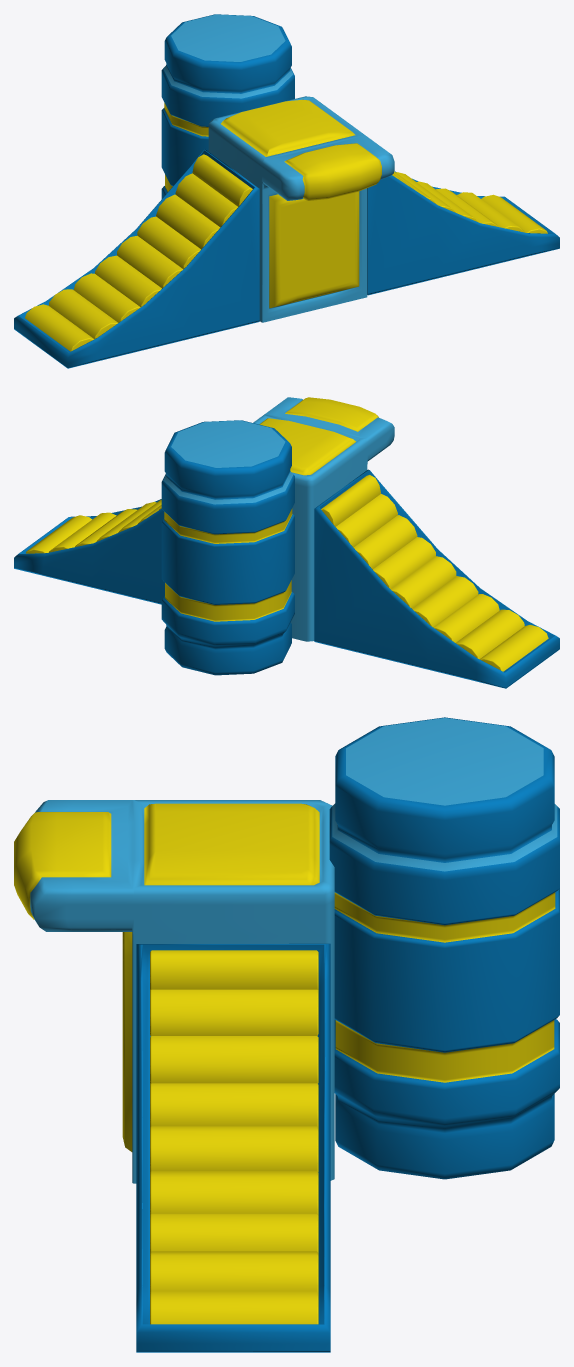
The model's file is blueBase.fbx.
3 views of the same model, one above another, from view 1: azimuth 30°, elevation 25°; view 2: azimuth 150°, elevation 25°; view 3: azimuth 270°, elevation 25° (orthographic). The views are drawn at different scales.
Visible parts, largest first — view 1: ramp1, mainPlatform, ramp2, tallPlatform; view 2: tallPlatform, ramp1, mainPlatform, ramp2; view 3: tallPlatform, ramp2, mainPlatform.
Part boxes in pixels (box(x1,y1,x2,y2)): ramp1: box(14, 149, 259, 368); mainPlatform: box(208, 96, 394, 322); ramp2: box(367, 171, 559, 295); tallPlatform: box(161, 14, 294, 198); tallPlatform: box(161, 420, 294, 675); ramp1: box(314, 469, 559, 688); mainPlatform: box(253, 397, 394, 641); ramp2: box(14, 499, 164, 604); tallPlatform: box(329, 717, 559, 1179); ramp2: box(136, 943, 330, 1352); mainPlatform: box(14, 800, 334, 1183).
Bounding box in the file's own units: 58.74 × 23.76 × 31.32.
